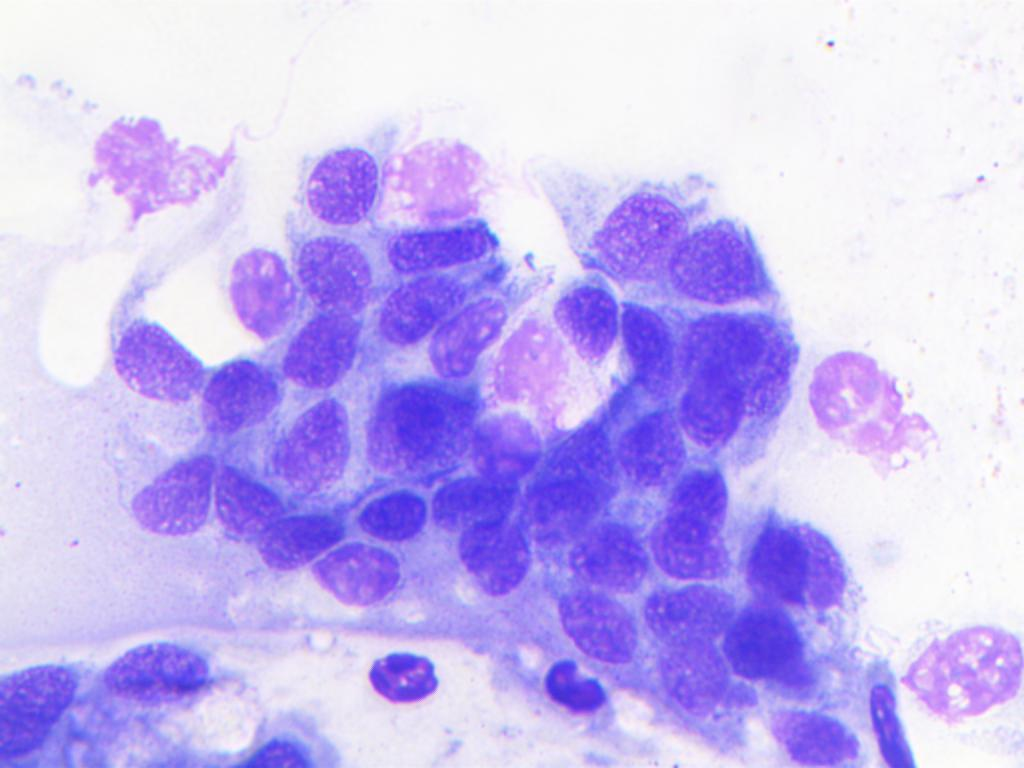artifact: (802, 336, 939, 483), (89, 102, 247, 221), (881, 610, 1020, 724), (388, 127, 537, 227), (494, 310, 578, 416)
epithelial: (567, 169, 690, 302), (680, 319, 802, 440), (513, 428, 631, 547), (79, 624, 222, 710), (370, 374, 482, 481), (0, 638, 93, 763), (742, 508, 861, 605), (676, 205, 784, 310), (107, 305, 201, 408), (117, 444, 217, 537), (364, 278, 481, 354), (608, 398, 702, 492), (196, 453, 288, 549), (439, 517, 544, 601), (220, 230, 298, 343), (728, 594, 817, 691), (264, 393, 356, 486), (752, 692, 862, 768), (604, 297, 678, 409), (303, 127, 382, 230), (654, 633, 750, 713), (249, 499, 351, 572), (541, 274, 626, 361), (289, 230, 377, 314), (193, 354, 281, 437), (539, 594, 647, 661), (307, 540, 411, 608), (640, 578, 738, 649), (428, 304, 522, 377), (394, 214, 499, 277), (472, 397, 548, 483), (647, 512, 740, 581), (290, 310, 366, 388), (344, 481, 430, 547), (658, 464, 743, 530), (427, 466, 514, 529), (228, 732, 327, 768)
neutrophil: (520, 651, 615, 732), (854, 667, 924, 768), (349, 645, 445, 713)
